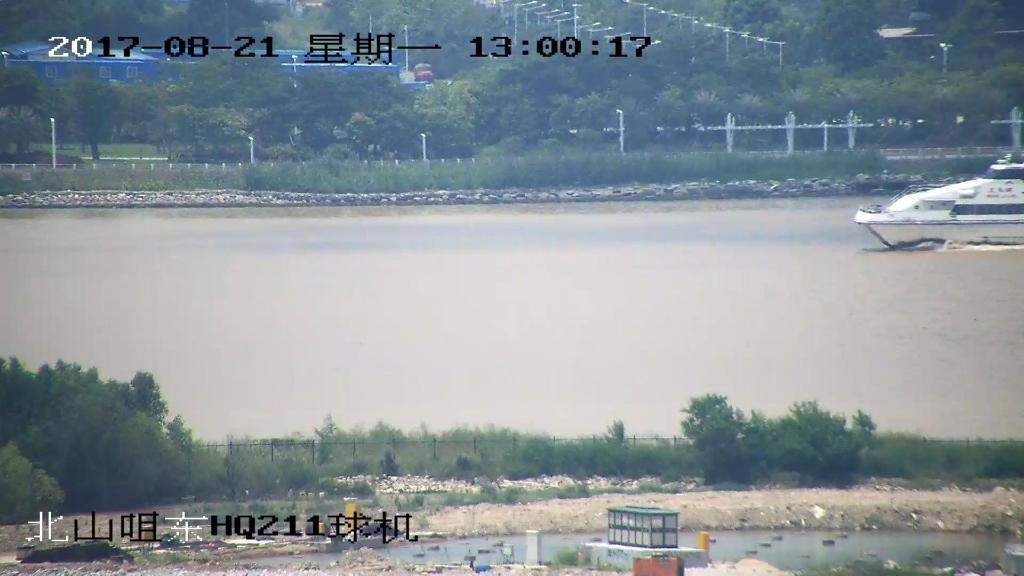PassengerShip: (846, 143, 1024, 255)
